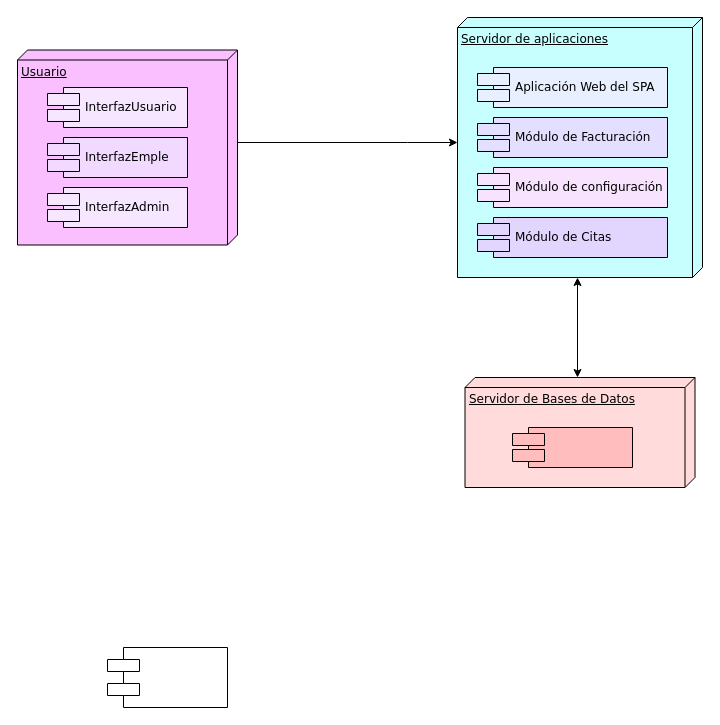
This 720x725 diagram has some shape labels left out. The centre of each missing label's shape, as x and y in pixels:
Base de datos: point (572, 447)
Module: point (167, 677)
